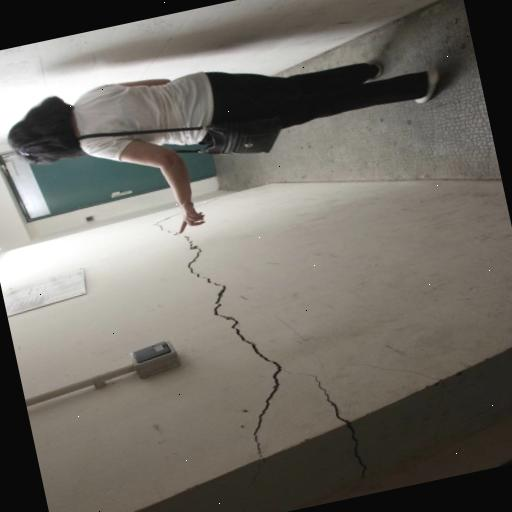spalling: (178, 235, 287, 451), (305, 372, 348, 424)
